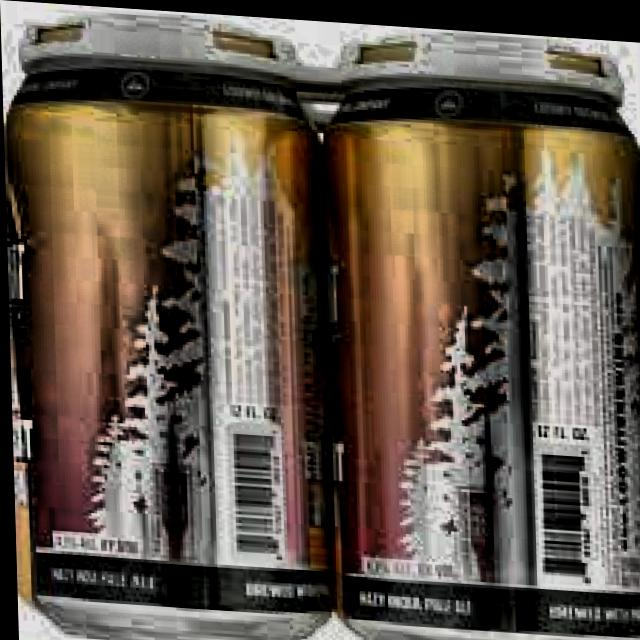can: (0, 0, 332, 640), (316, 17, 640, 640)
